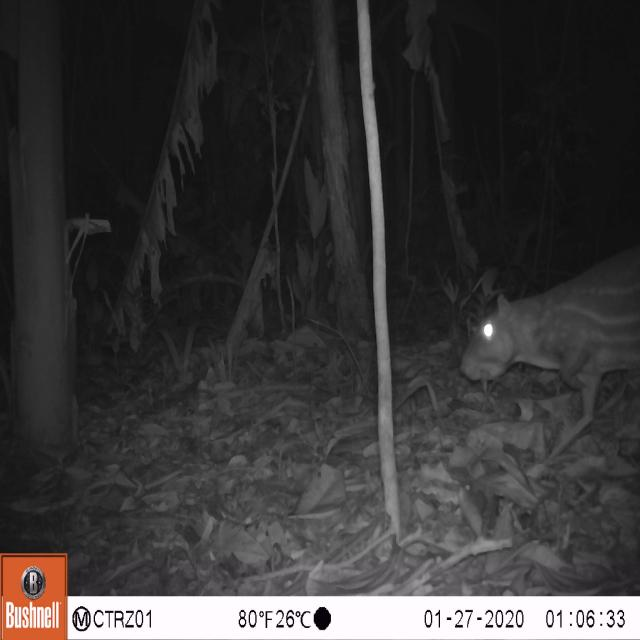Spotted Paca: (443, 232, 640, 399)
